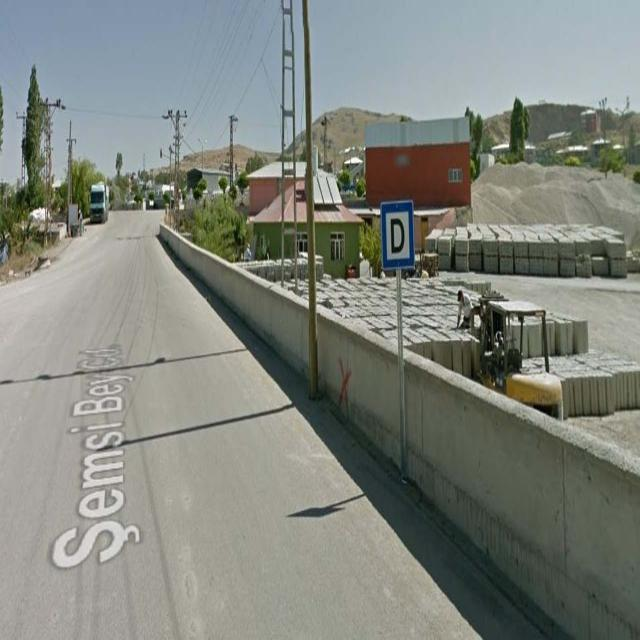durak: (380, 200, 415, 272)
